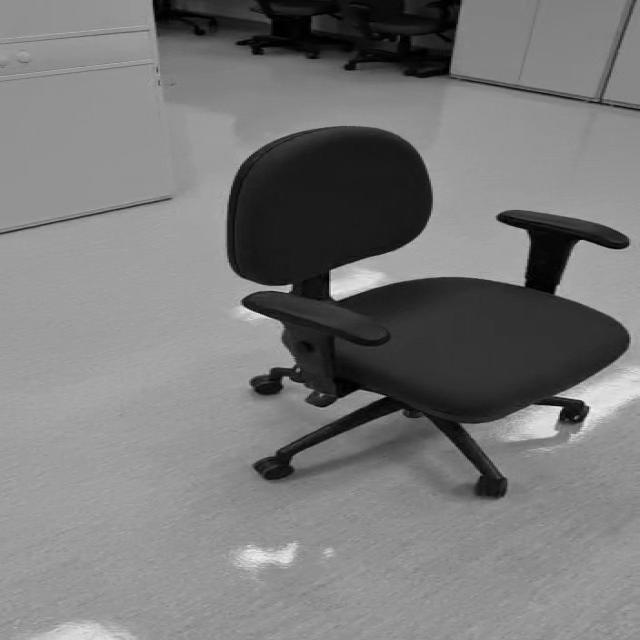chair: (226, 125, 628, 497)
